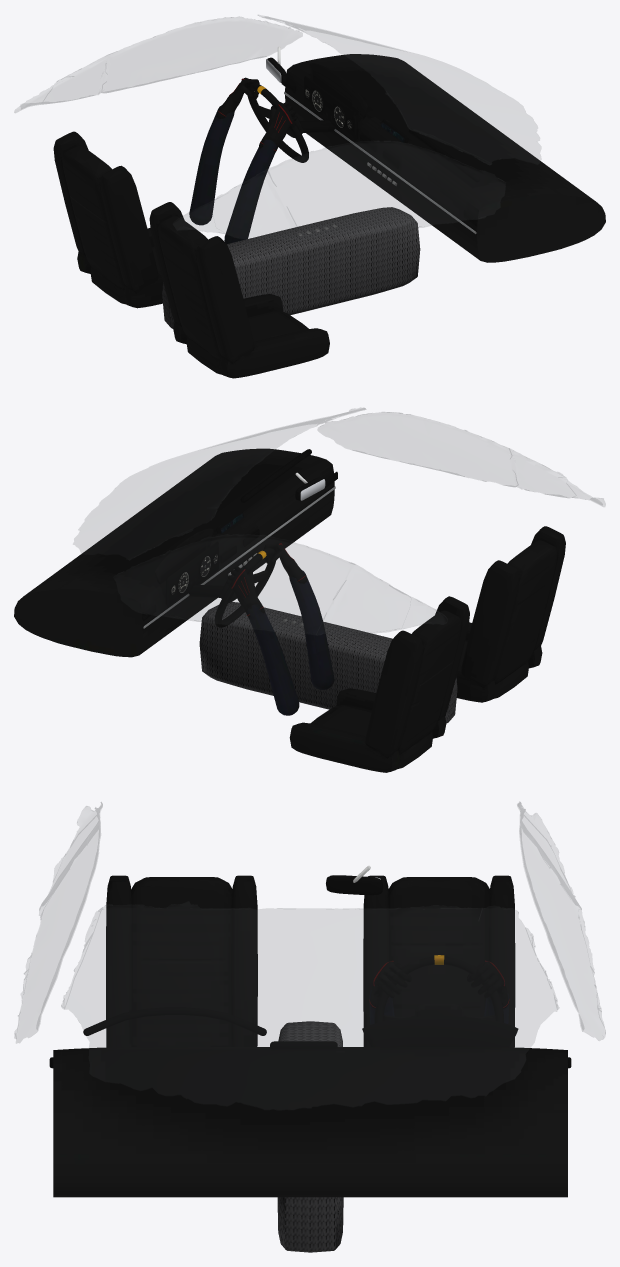
The model's file is mz_monza_cockpit_mid.glb.
The picture shows the model from 3 angles, top to bottom: view 1: azimuth 30°, elevation 25°; view 2: azimuth 150°, elevation 25°; view 3: azimuth 270°, elevation 25°; orthographic projection. The views are drawn at different scales.
Visible parts, largest first — view 1: cockpit_shell, window_R, cabin_glass, window_L, hands, steering_wheel; view 2: cockpit_shell, window_L, cabin_glass, window_R, hands, steering_wheel; view 3: cockpit_shell, cabin_glass, window_R, window_L, hands, steering_wheel.
Part boxes in pixels (x1=…): cockpit_shell: x1=53, y1=46, x2=605, y2=378; window_R: x1=211, y1=129, x2=505, y2=240; cabin_glass: x1=14, y1=15, x2=540, y2=240; window_L: x1=42, y1=17, x2=302, y2=103; hands: x1=189, y1=77, x2=297, y2=243; steering_wheel: x1=247, y1=83, x2=308, y2=162; cockpit_shell: x1=14, y1=448, x2=565, y2=772; window_L: x1=113, y1=529, x2=410, y2=634; cabin_glass: x1=73, y1=408, x2=605, y2=634; window_R: x1=318, y1=408, x2=575, y2=497; hands: x1=226, y1=542, x2=334, y2=715; steering_wheel: x1=214, y1=548, x2=275, y2=627; cockpit_shell: x1=49, y1=865, x2=571, y2=1252; cabin_glass: x1=14, y1=802, x2=605, y2=1109; window_R: x1=15, y1=807, x2=110, y2=1042; window_L: x1=479, y1=810, x2=603, y2=1040; hands: x1=369, y1=960, x2=509, y2=1024; steering_wheel: x1=374, y1=955, x2=503, y2=1023.
Size of the model in its own units: 1.91 by 1.05 by 1.75.
Materials: 5 (3 with a texture image).
